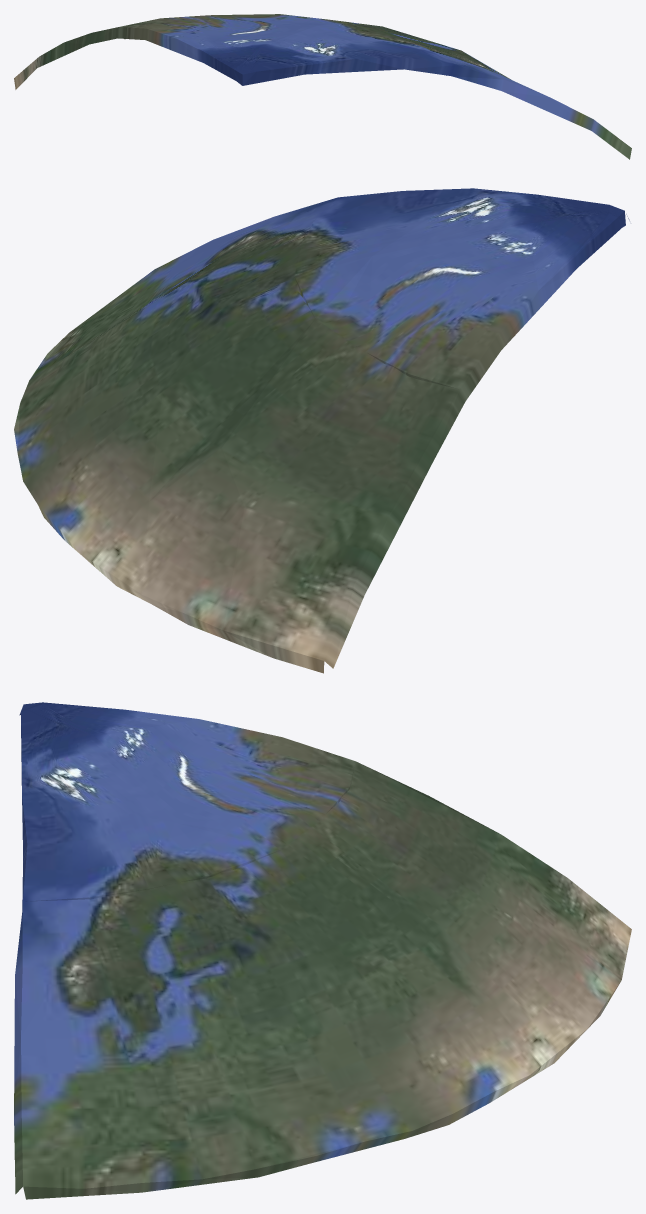
The picture shows the model from 3 angles, top to bottom: view 1: azimuth 30°, elevation 25°; view 2: azimuth 150°, elevation 25°; view 3: azimuth 270°, elevation 25°; orthographic projection. The views are drawn at different scales.
Bounding box in the file's own units: 4582076 × 2008943 × 4594674.
1 material, 1 textured.
